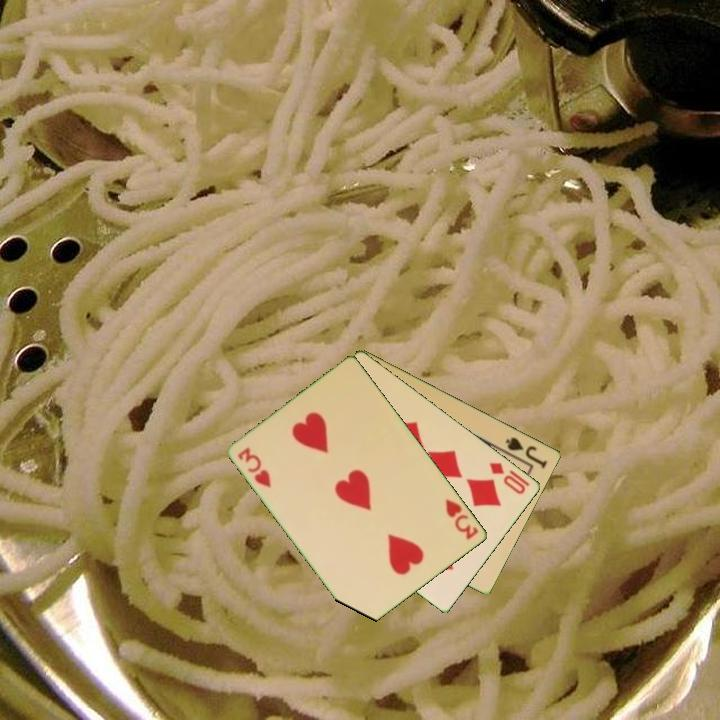10d: (486, 459, 533, 497)
3h: (234, 444, 275, 491), (442, 496, 482, 543)
Js: (502, 433, 551, 471)
